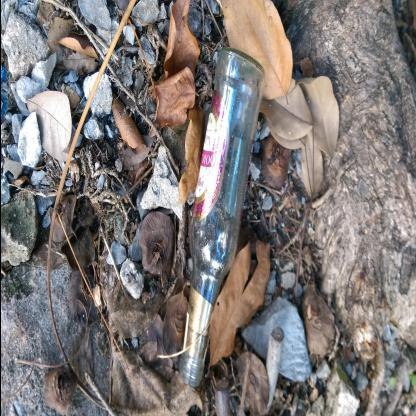cam: (179, 46, 267, 390)
